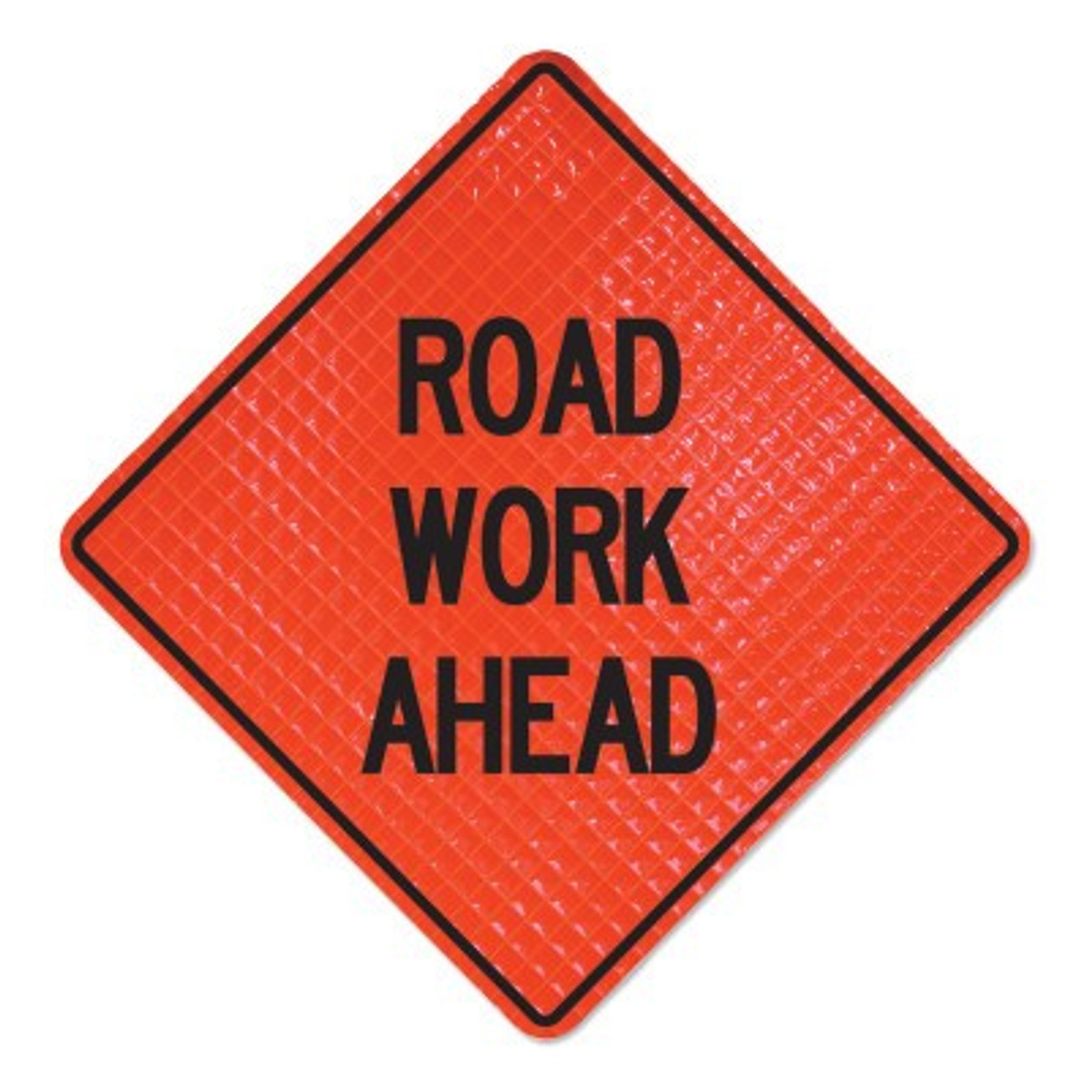Road_workahead: (55, 52, 1029, 1042)
